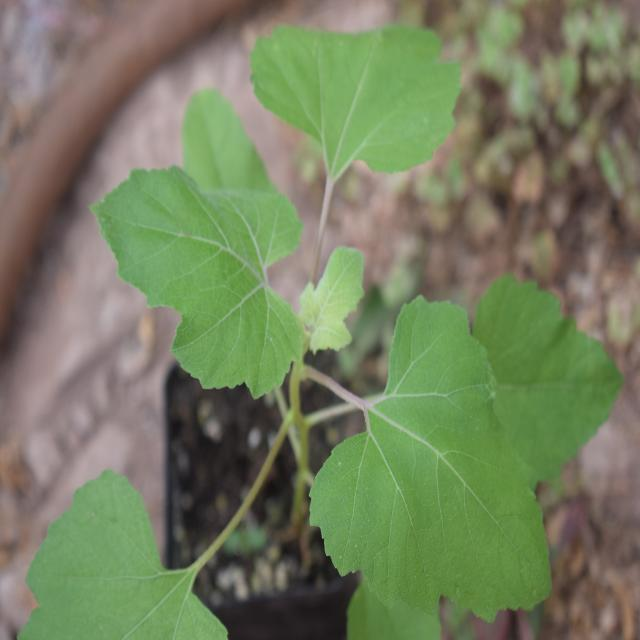cocklebur: (79, 4, 572, 611)
